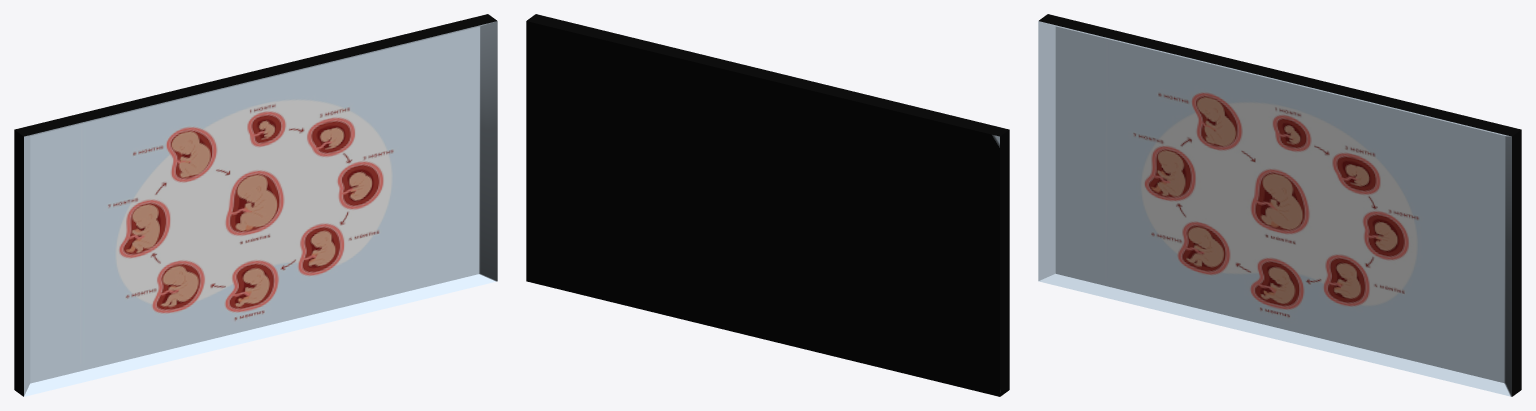
Rendered from board 3.fbx.
3 views of the same model, side by side, from view 1: azimuth 30°, elevation 25°; view 2: azimuth 150°, elevation 25°; view 3: azimuth 330°, elevation 25° (orthographic).
Visible parts, largest first — view 1: board3; view 2: board3; view 3: board3.
Part boxes in pixels (x1=…): board3: x1=14, y1=14, x2=497, y2=396; board3: x1=526, y1=14, x2=1009, y2=396; board3: x1=1038, y1=14, x2=1521, y2=396.
Size of the model in its own units: 133 by 69.64 by 4.64.
Materials: 1 (1 with a texture image).
